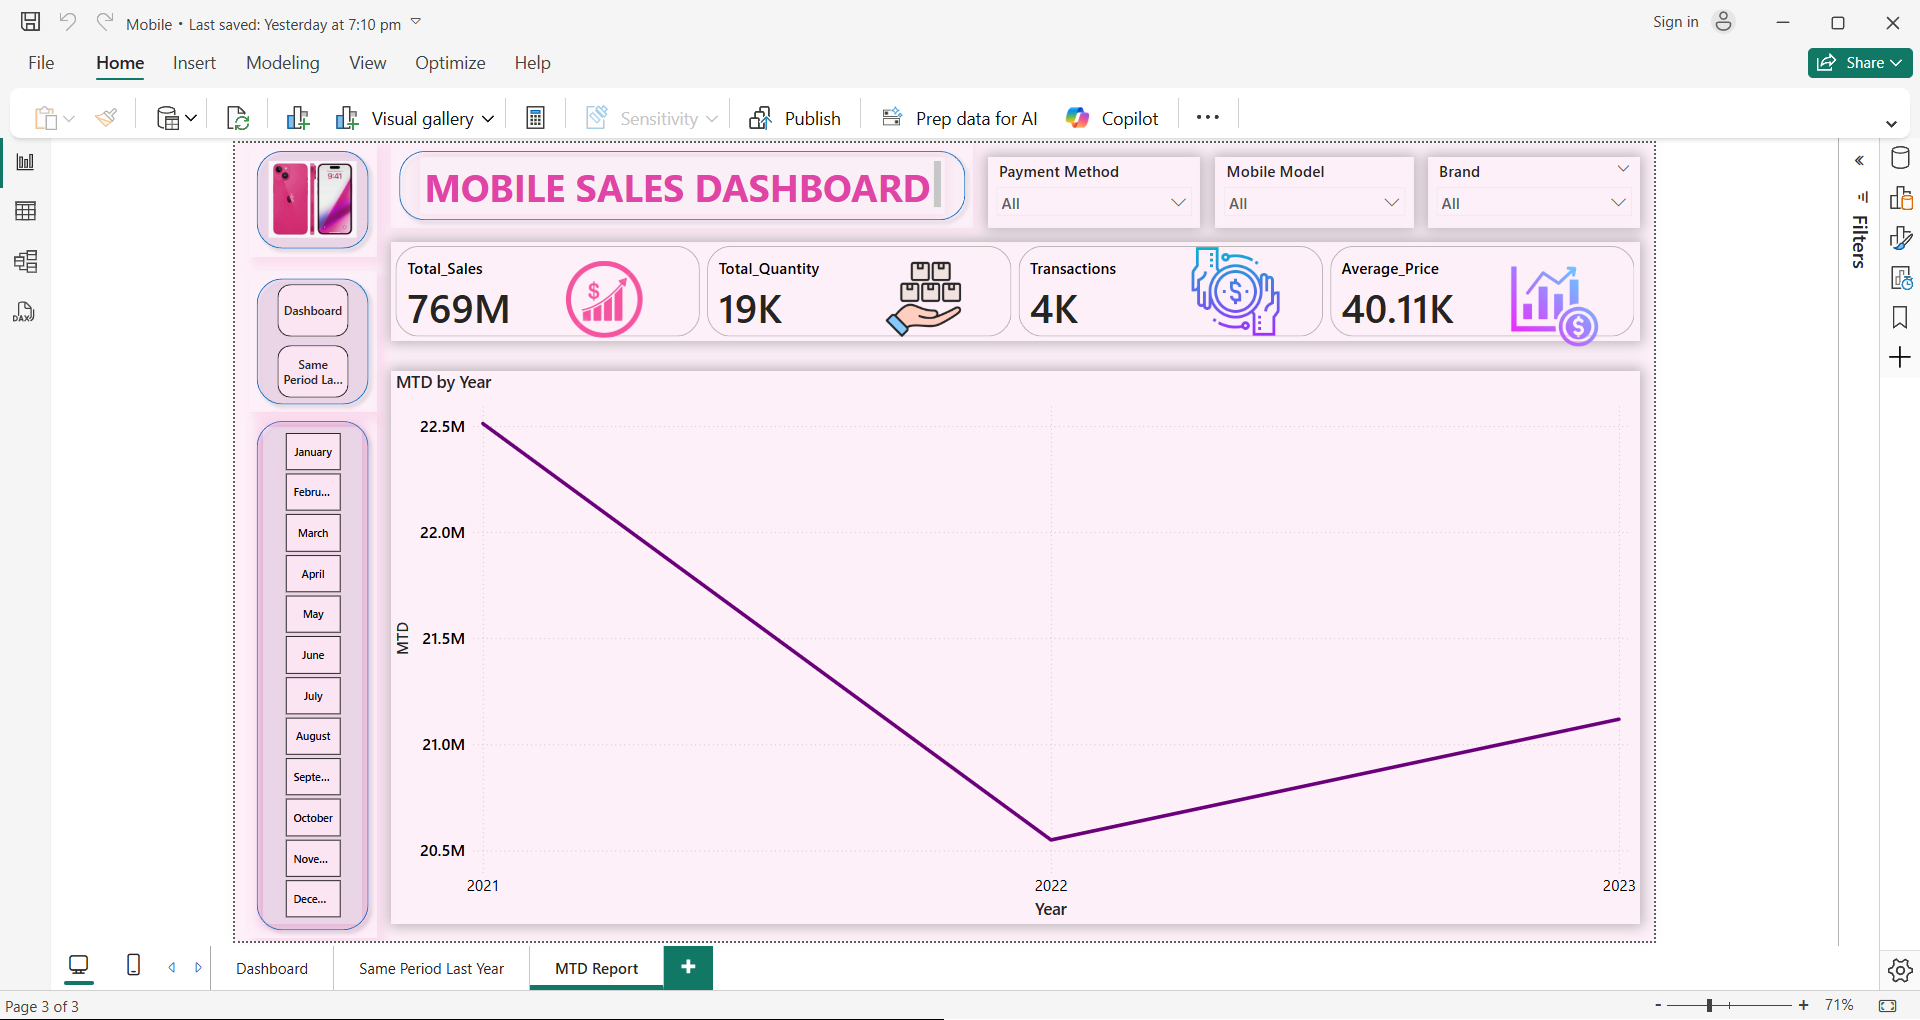

Layout of this report page (visuals, bound fields, positions):
{"tool":"powerbi","page":{"name":"MTD Report","canvas":[1600,900],"ordinal":1},"visuals":[{"type":"cardVisual","fields":{"Data":["Sales_Data.Total_Sales","Sales_Data.Total_Quantity","Sales_Data.Transactions","Sales_Data.Average_Price"]},"box":[176,112,1408,112],"z":0},{"type":"shape","box":[16,144,144,160],"z":0,"group":"g2"},{"type":"shape","box":[16,0,144,128],"z":1000,"group":"g3"},{"type":"shape","box":[176,0,656,96],"z":1000},{"type":"textbox","box":[208,16,592,64],"z":2000},{"type":"shape","box":[16,304,144,592],"z":2000,"group":"g1"},{"type":"slicer","fields":{"Values":["Sales_Data.Mobile Model"]},"box":[1104,16,224,80],"z":3000},{"type":"slicer","fields":{"Values":["Custom_Calender.Date.Variation.Date Hierarchy.Month"]},"box":[32,320,112,560],"z":3000,"group":"g1"},{"type":"slicer","fields":{"Values":["Sales_Data.Payment Method"]},"box":[848,16,240,80],"z":4000},{"type":"slicer","fields":{"Values":["Sales_Data.Brand"]},"box":[1344,16,240,80],"z":5000},{"type":"lineChart","fields":{"Y":["Sales_Data.MTD"],"Category":["Custom_Calender.Date.Variation.Date Hierarchy.Year","Custom_Calender.Date.Variation.Date Hierarchy.Quarter","Custom_Calender.Date.Variation.Date Hierarchy.Month","Custom_Calender.Date.Variation.Date Hierarchy.Day"]},"box":[176,240,1408,624],"z":6000},{"type":"image","box":[352,128,128,96],"z":7000},{"type":"image","box":[720,128,112,96],"z":8000},{"type":"image","box":[1040,112,176,112],"z":9000},{"type":"image","box":[1408,128,160,112],"z":10000},{"type":"pageNavigator","box":[48,160,80,128],"z":11000,"group":"g2"},{"type":"group","id":"g1","title":"Group 1","box":[16,304,144,592],"z":11000},{"type":"image","box":[16,16,144,96],"z":12000,"group":"g3"},{"type":"group","id":"g2","title":"Group 2","box":[16,144,144,160],"z":12000},{"type":"group","id":"g3","title":"Group 3","box":[16,0,144,128],"z":13000}]}

Visuals, with their boxes on the page's 1600x900 design canvas (x1, y1, x2, y2). These are canvas units, not pixel positions in the 1920x1020 screenshot, which may show the page scaled, cropped or inside an application window:
cardVisual - Sales_Data.Total_Sales x Sales_Data.Total_Quantity: l=176, t=112, r=1584, b=224
shape: l=16, t=144, r=160, b=304
shape: l=16, t=0, r=160, b=128
shape: l=176, t=0, r=832, b=96
textbox: l=208, t=16, r=800, b=80
shape: l=16, t=304, r=160, b=896
slicer - Sales_Data.Mobile Model: l=1104, t=16, r=1328, b=96
slicer - Custom_Calender.Date.Variation.Date Hierarchy.Month: l=32, t=320, r=144, b=880
slicer - Sales_Data.Payment Method: l=848, t=16, r=1088, b=96
slicer - Sales_Data.Brand: l=1344, t=16, r=1584, b=96
lineChart - Sales_Data.MTD x Custom_Calender.Date.Variation.Date Hierarchy.Year: l=176, t=240, r=1584, b=864
image: l=352, t=128, r=480, b=224
image: l=720, t=128, r=832, b=224
image: l=1040, t=112, r=1216, b=224
image: l=1408, t=128, r=1568, b=240
pageNavigator: l=48, t=160, r=128, b=288
"Group 1" group: l=16, t=304, r=160, b=896
image: l=16, t=16, r=160, b=112
"Group 2" group: l=16, t=144, r=160, b=304
"Group 3" group: l=16, t=0, r=160, b=128
